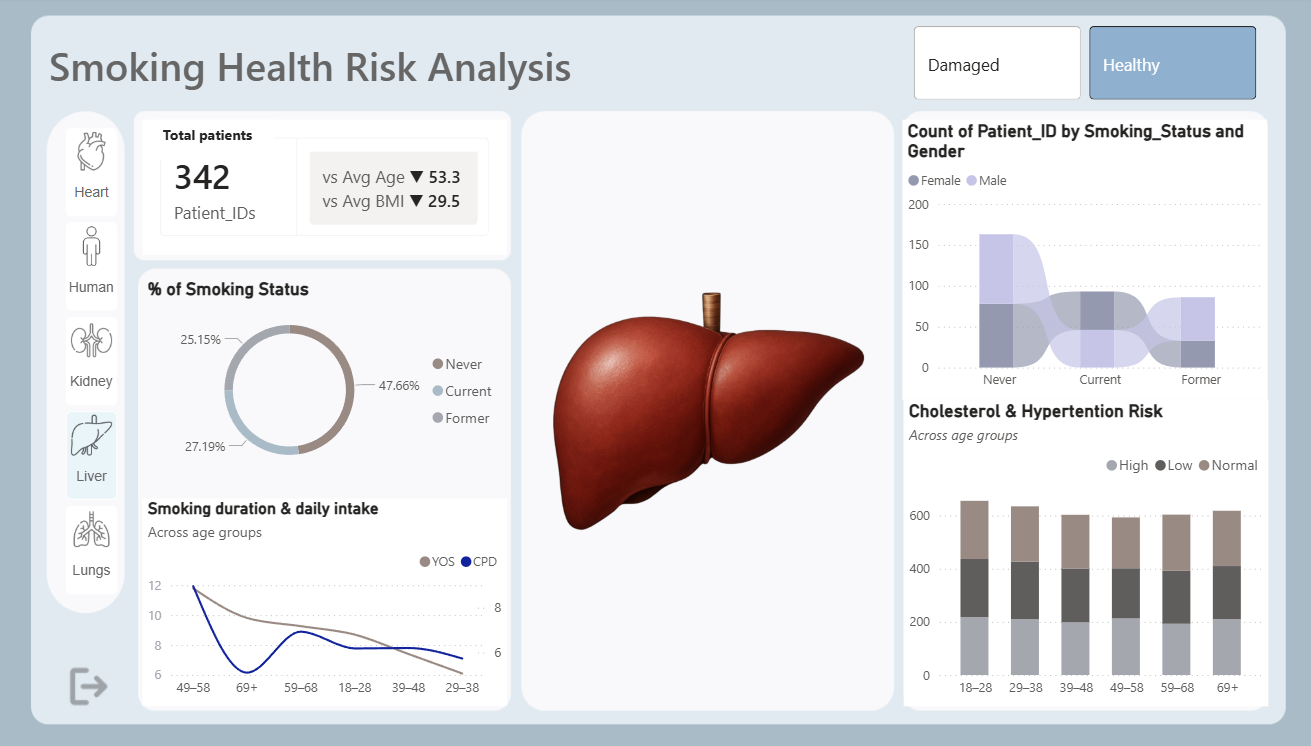

The dashboard page shown, as its layout file describes it:
{"tool":"powerbi","page":{"name":"Page 1","canvas":[1280,720],"ordinal":0},"visuals":[{"type":"cardVisual","fields":{"Data":["CountNonNull(health_dataset.Patient_ID)"]},"box":[145.5,118,347.2,129],"z":0},{"type":"advancedSlicerVisual","fields":{"Values":["condition.Organ_Condition"]},"box":[875.5,23.3,336.2,81],"z":1},{"type":"ChicletSlicer1448559807354","fields":{"Category":["Organs.Organ"],"Image":["Organs.Icon_URL"]},"box":[64.5,118,70,465.2],"z":2},{"type":"image","box":[511.8,118,347.2,558.5],"z":3},{"type":"donutChart","title":"% of Smoking Status","fields":{"Category":["health_dataset.Smoking_Status"],"Y":["CountNonNull(health_dataset.Smoking_Status)"]},"box":[145.5,269,347.2,193.5],"z":4},{"type":"lineChart","title":"Smoking duration & daily intake ","fields":{"Category":["health_dataset.Age Group"],"Y":["Avg(health_dataset.Years_of_Smoking)"],"Y2":["Avg(health_dataset.Cigarettes_Per_Day)"]},"box":[145.5,478.9,347.2,197.6],"z":5},{"type":"ribbonChart","fields":{"Category":["health_dataset.Smoking_Status"],"Y":["CountNonNull(health_dataset.Patient_ID)"],"Series":["health_dataset.Gender"]},"box":[868.6,118,347.2,266.2],"z":6},{"type":"columnChart","title":"Cholesterol & Hypertention Risk","fields":{"Category":["health_dataset.Age Group"],"Y":["Avg(health_dataset.Cholesterol_Level)"],"Series":["health_dataset.BP_Risk"]},"box":[870,384.2,347.2,292.3],"z":7},{"type":"textbox","box":[159.2,118,111.1,38.4],"z":8},{"type":"textbox","box":[50.8,35.7,668.3,68.6],"z":9}]}

Visuals, with their boxes in screenshot pixels (x1, y1, x2, y2), scaled from the page's 1280x720 canvas onto the 1311x746 screenshot:
cardVisual - CountNonNull(health_dataset.Patient_ID): bbox=[149, 122, 505, 256]
advancedSlicerVisual - condition.Organ_Condition: bbox=[897, 24, 1241, 108]
ChicletSlicer1448559807354 - Organs.Organ x Organs.Icon_URL: bbox=[66, 122, 138, 604]
image: bbox=[524, 122, 880, 701]
"% of Smoking Status" donutChart: bbox=[149, 279, 505, 479]
"Smoking duration & daily intake " lineChart: bbox=[149, 496, 505, 701]
ribbonChart - health_dataset.Smoking_Status x CountNonNull(health_dataset.Patient_ID): bbox=[890, 122, 1245, 398]
"Cholesterol & Hypertention Risk" columnChart: bbox=[891, 398, 1247, 701]
textbox: bbox=[163, 122, 277, 162]
textbox: bbox=[52, 37, 737, 108]
